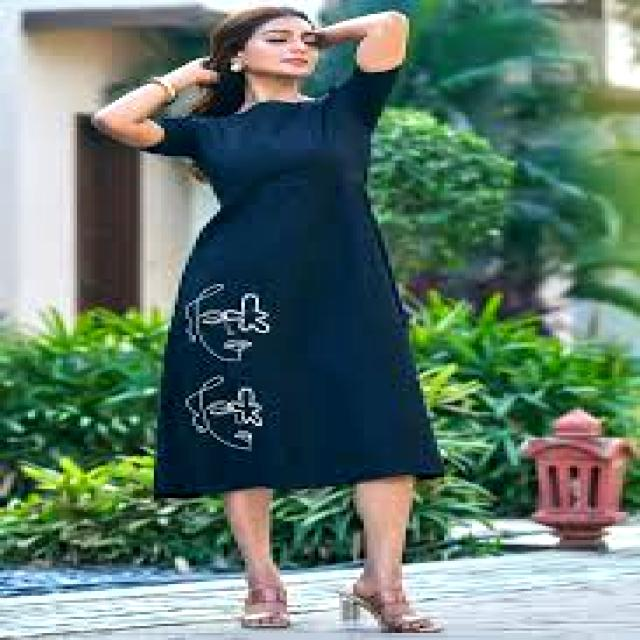dress: (140, 66, 444, 498)
face: (238, 17, 318, 76)
